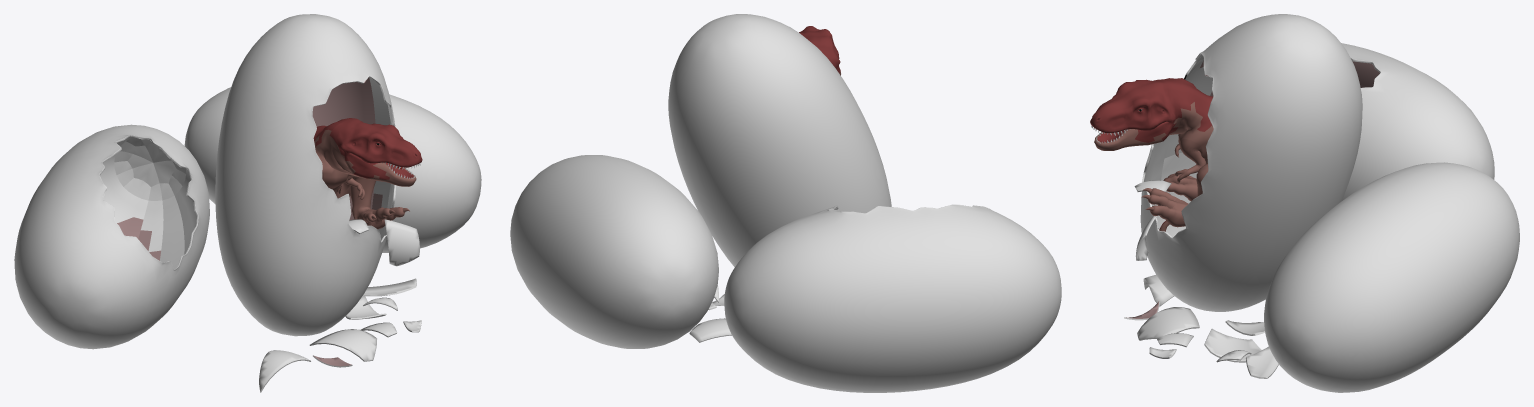
The model's file is dinosaur_egg__baby_t-rex.glb.
3 renders of one model, left to right at view 1: azimuth 30°, elevation 25°; view 2: azimuth 150°, elevation 25°; view 3: azimuth 270°, elevation 25°, orthographic. The views are drawn at different scales.
Visible parts, largest first — view 1: hatched egg, hatched egg.001, egg, Object_85, egg.001_cell.011, egg.001_cell.004, egg.001_cell.002, egg.001_cell.006, egg.001_cell.010; view 2: hatched egg.001, hatched egg, egg, Object_85, egg.001_cell.007; view 3: hatched egg, egg, hatched egg.001, Object_85, egg.001_cell.004, egg.001_cell.010, egg.001_cell.006, egg.001_cell.002, egg.001_cell.001, egg.001_cell.009.
Boxes of the visible parts, left/top/right/bottom form: hatched egg: left=215, top=14, right=396, bottom=336; hatched egg.001: left=14, top=124, right=209, bottom=349; egg: left=184, top=87, right=481, bottom=252; Object_85: left=313, top=118, right=422, bottom=229; egg.001_cell.011: left=384, top=219, right=419, bottom=266; egg.001_cell.004: left=309, top=329, right=376, bottom=361; egg.001_cell.002: left=259, top=350, right=310, bottom=392; egg.001_cell.006: left=362, top=278, right=416, bottom=296; egg.001_cell.010: left=345, top=296, right=386, bottom=319; hatched egg.001: left=724, top=204, right=1061, bottom=392; hatched egg: left=668, top=14, right=891, bottom=267; egg: left=510, top=155, right=718, bottom=348; Object_85: left=799, top=26, right=840, bottom=75; egg.001_cell.007: left=689, top=318, right=731, bottom=342; hatched egg: left=1140, top=14, right=1362, bottom=311; egg: left=1264, top=162, right=1519, bottom=392; hatched egg.001: left=1341, top=43, right=1494, bottom=200; Object_85: left=1090, top=78, right=1213, bottom=231; egg.001_cell.004: left=1137, top=307, right=1199, bottom=340; egg.001_cell.010: left=1204, top=328, right=1261, bottom=362; egg.001_cell.006: left=1246, top=346, right=1278, bottom=378; egg.001_cell.002: left=1143, top=275, right=1174, bottom=306; egg.001_cell.001: left=1225, top=320, right=1264, bottom=335; egg.001_cell.009: left=1157, top=333, right=1193, bottom=347.
Bounding box in the file's own units: 0.4954 × 0.3036 × 0.3574.
